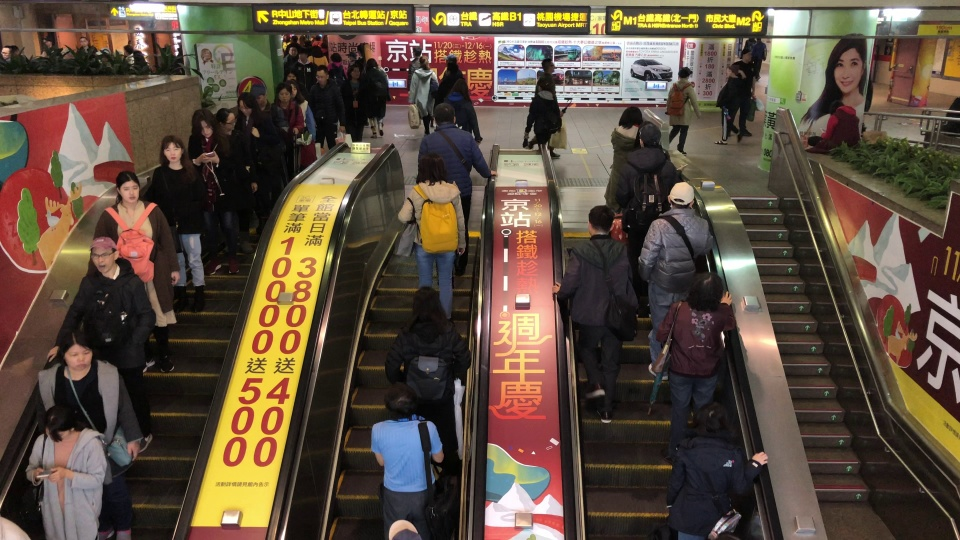person_head: (405, 286, 447, 331), (57, 329, 95, 372), (688, 271, 725, 313), (695, 401, 734, 439), (41, 405, 79, 442), (384, 380, 418, 417), (88, 236, 119, 274), (158, 134, 187, 169), (585, 205, 615, 238), (115, 169, 142, 203), (416, 154, 448, 182), (667, 181, 695, 210), (192, 109, 218, 138), (638, 123, 664, 148), (215, 108, 237, 134), (619, 106, 644, 127), (432, 103, 455, 125), (236, 93, 257, 115), (249, 83, 268, 106), (272, 82, 290, 104), (827, 100, 845, 116), (450, 80, 468, 95), (314, 67, 329, 84), (675, 67, 692, 82), (539, 58, 555, 72), (724, 64, 739, 78), (539, 79, 553, 92), (739, 49, 752, 63), (329, 53, 342, 66), (366, 59, 379, 72), (96, 46, 110, 58), (346, 67, 360, 79), (288, 81, 299, 95), (419, 56, 430, 70), (444, 54, 456, 66), (411, 46, 423, 57), (0, 46, 10, 59), (121, 44, 132, 55), (357, 44, 368, 55), (310, 46, 320, 57), (297, 49, 308, 59), (79, 37, 88, 47), (286, 73, 297, 81), (12, 45, 20, 55), (42, 37, 52, 45), (347, 52, 357, 60), (290, 34, 297, 43), (756, 33, 763, 42), (283, 34, 290, 42), (748, 34, 755, 41), (313, 36, 321, 42), (321, 41, 328, 47)
person_vbox: (45, 235, 156, 461), (37, 330, 143, 540), (385, 285, 472, 501), (551, 204, 636, 425), (92, 169, 181, 374), (637, 181, 716, 380), (658, 271, 738, 457), (417, 102, 499, 275), (666, 403, 767, 540), (145, 134, 212, 312), (621, 123, 684, 311), (370, 380, 444, 538), (397, 153, 467, 320), (25, 404, 107, 540), (188, 110, 244, 274), (214, 109, 257, 236), (602, 105, 645, 210), (522, 56, 566, 156), (237, 93, 273, 208), (662, 66, 701, 155), (806, 100, 861, 153), (527, 79, 563, 156), (726, 49, 755, 138), (314, 67, 342, 155), (406, 55, 436, 136), (447, 80, 483, 146), (364, 58, 392, 138), (714, 64, 741, 146), (249, 83, 286, 136), (287, 80, 317, 145), (272, 82, 305, 134), (407, 45, 427, 123), (346, 65, 364, 145), (356, 42, 372, 128), (438, 56, 463, 102), (296, 50, 317, 91), (753, 32, 769, 82), (328, 54, 346, 86), (740, 32, 757, 61), (285, 72, 305, 96), (78, 37, 98, 57), (310, 47, 328, 65), (120, 44, 134, 65), (287, 32, 299, 55), (348, 55, 358, 70), (282, 33, 290, 51), (321, 41, 330, 56), (311, 36, 321, 47)
